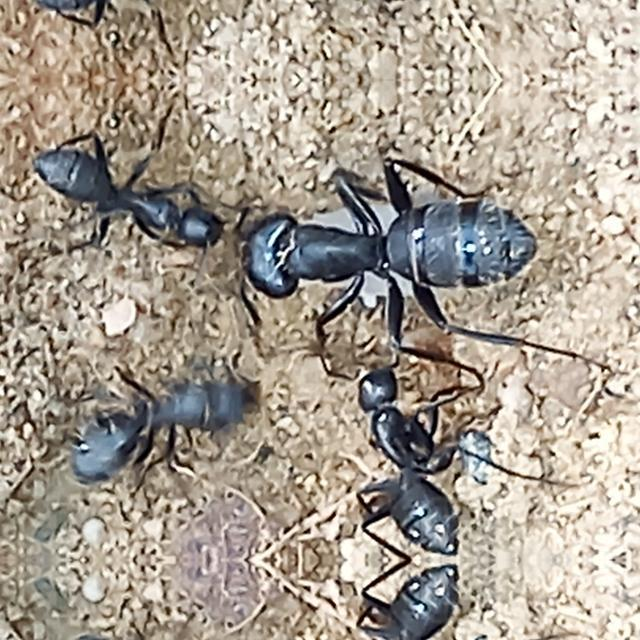Camponotus: (216, 164, 568, 330), (309, 336, 529, 556), (30, 350, 274, 504), (6, 120, 242, 270), (309, 562, 529, 640), (5, 0, 242, 40)
